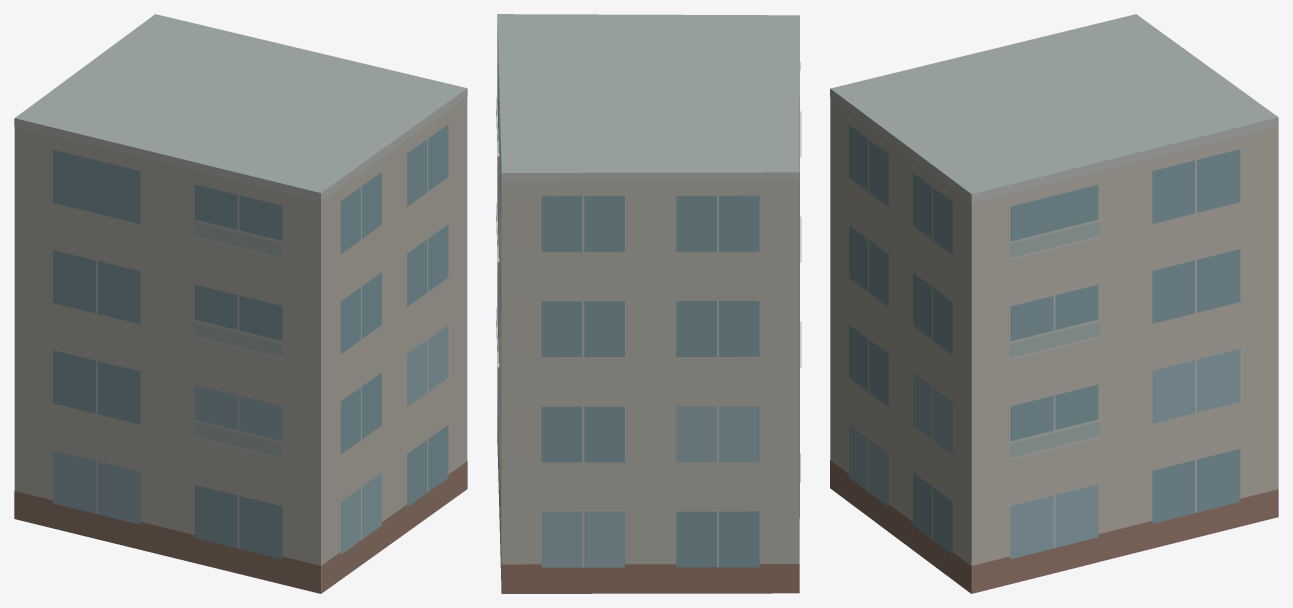
The model's file is survey-upis-32890775.glb.
3 renders of one model, left to right at view 1: azimuth 30°, elevation 25°; view 2: azimuth 150°, elevation 25°; view 3: azimuth 270°, elevation 25°, orthographic. The views are drawn at different scales.
Parts seen in each view (by area): view 1: survey-upis-32890775.tmp; view 2: survey-upis-32890775.tmp; view 3: survey-upis-32890775.tmp.
Boxes of the visible parts, x1=… form: survey-upis-32890775.tmp: x1=14, y1=14, x2=467, y2=593; survey-upis-32890775.tmp: x1=496, y1=14, x2=801, y2=593; survey-upis-32890775.tmp: x1=830, y1=14, x2=1278, y2=593.
Bounding box in the file's own units: 11.03 × 11.4 × 11.6.
